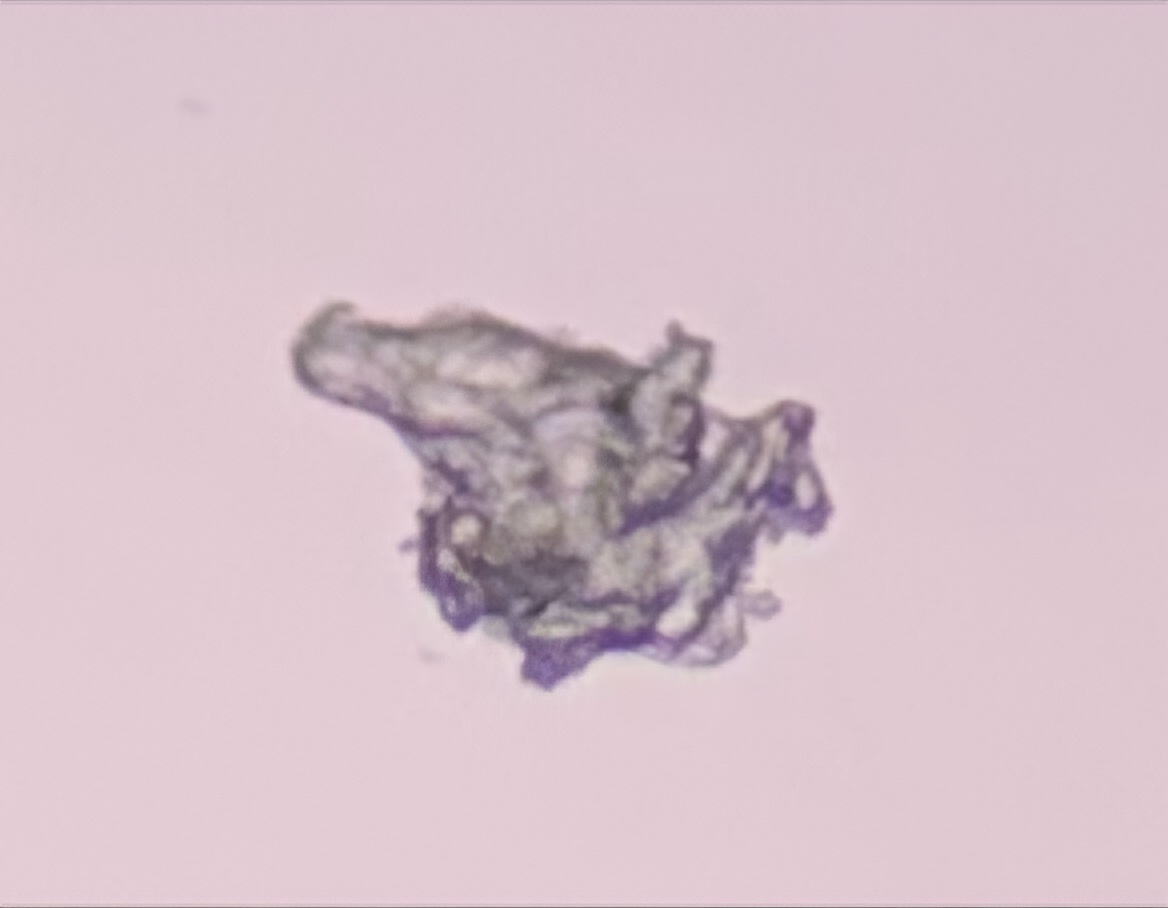microplastic: (289, 300, 837, 696)
